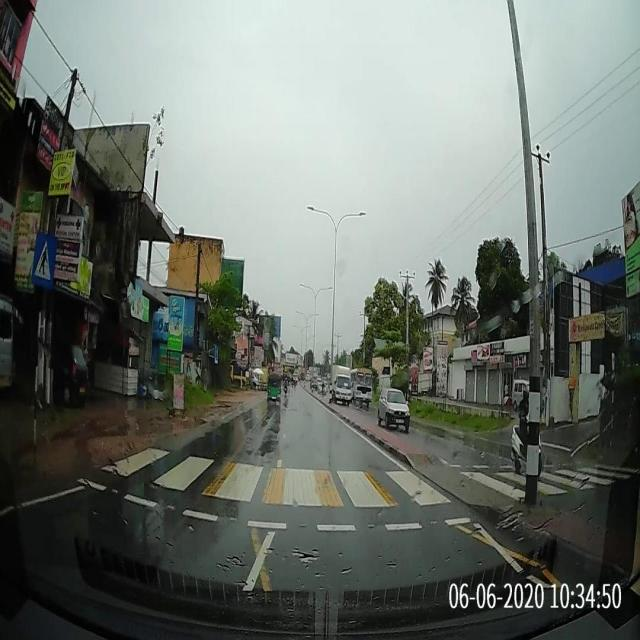Crosswalk: (66, 441, 639, 540)
